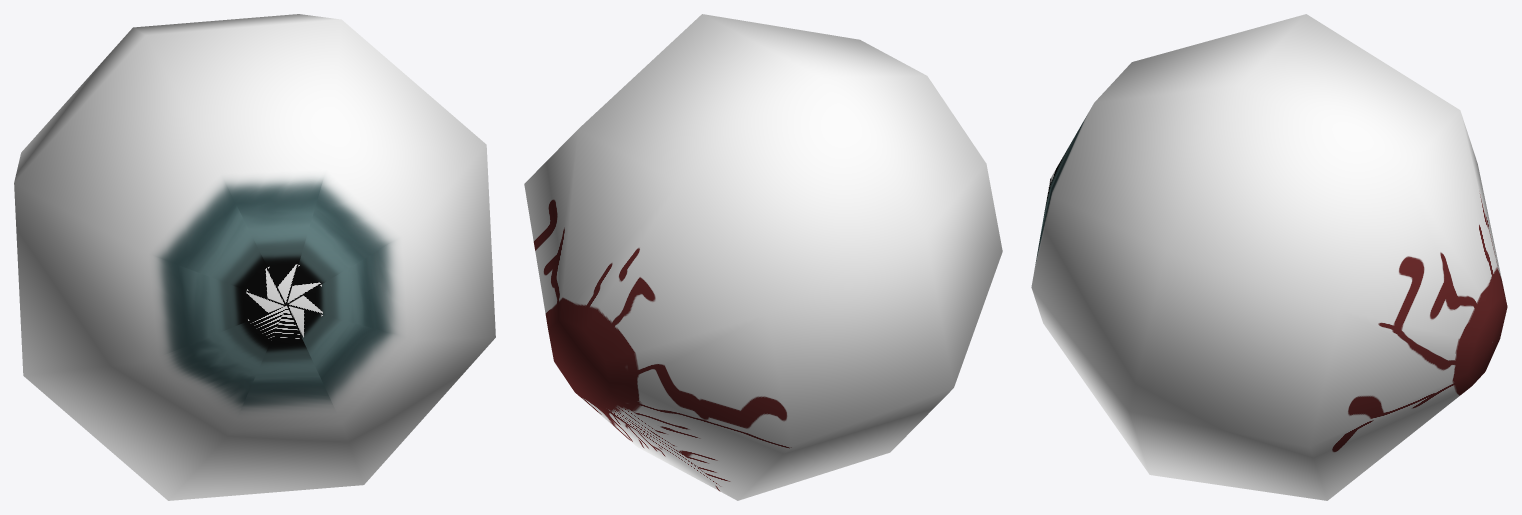
The model's file is eyeball.fbx.
3 views of the same model, side by side, from view 1: azimuth 30°, elevation 25°; view 2: azimuth 150°, elevation 25°; view 3: azimuth 270°, elevation 25° (orthographic). The views are drawn at different scales.
Visible parts, largest first — view 1: eyeball.001; view 2: eyeball.001; view 3: eyeball.001.
Part boxes in pixels (<box>): eyeball.001: <box>14,14,495,500</box>; eyeball.001: <box>524,14,1002,500</box>; eyeball.001: <box>1031,14,1507,500</box>.
Bounding box in the file's own units: 102 × 98.5 × 104.
